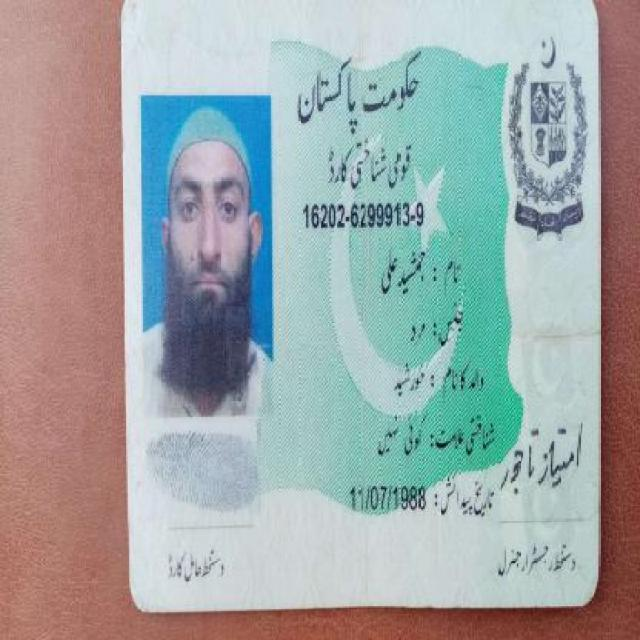Front: (119, 1, 603, 617)
